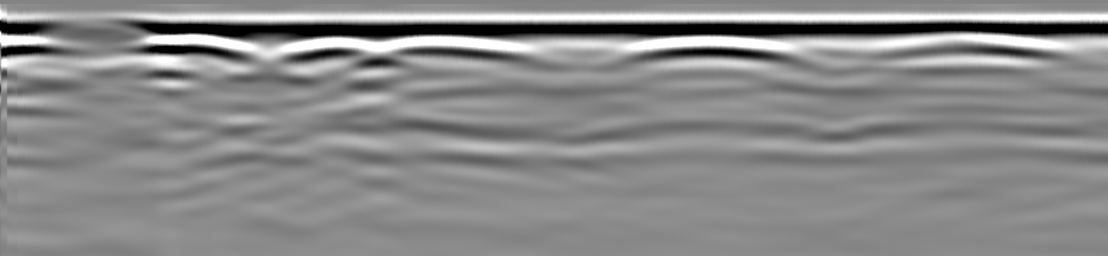pipe: (29, 20, 170, 51)
steel: (624, 35, 795, 66), (886, 35, 1069, 63), (384, 37, 515, 61), (281, 38, 378, 62), (151, 35, 249, 58)
